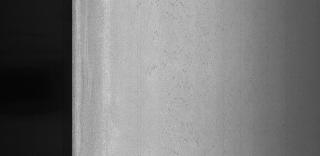silk spot: (128, 0, 214, 152)
